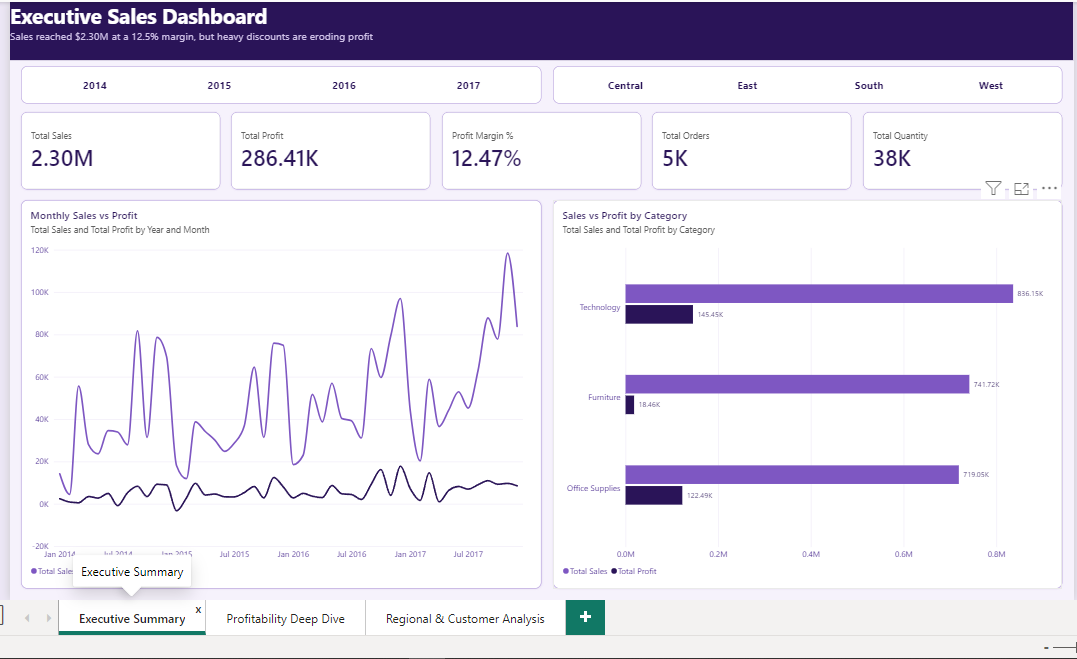

Layout of this report page (visuals, bound fields, positions):
{"tool":"powerbi","page":{"name":"Executive Summary","canvas":[1920,1080],"ordinal":0},"visuals":[{"type":"cardVisual","fields":{"Data":["Key Measures.Total Sales"]},"box":[20,198,360,140],"z":1000},{"type":"cardVisual","fields":{"Data":["Key Measures.Total Profit"]},"box":[400,198,360,140],"z":1001},{"type":"cardVisual","fields":{"Data":["Key Measures.Profit Margin %"]},"box":[780,198,360,140],"z":1002},{"type":"cardVisual","fields":{"Data":["Key Measures.Total Orders"]},"box":[1160,198,360,140],"z":1003},{"type":"cardVisual","fields":{"Data":["Key Measures.Total Quantity"]},"box":[1540,198,360,140],"z":1004},{"type":"lineChart","title":"Monthly Sales vs Profit","fields":{"Category":["Dim_Date.Date.Variation.Date Hierarchy.Year","Dim_Date.Date.Variation.Date Hierarchy.Month"],"Y":["Key Measures.Total Sales","Key Measures.Total Profit"]},"box":[20,358,940,702],"z":5000},{"type":"clusteredBarChart","title":"Sales vs Profit by Category","fields":{"Category":["Fact_Orders.Category"],"Y":["Key Measures.Total Sales","Key Measures.Total Profit"]},"box":[980,358,920,702],"z":6000},{"type":"slicer","fields":{"Values":["Dim_Date.Year"]},"box":[20,115,940,68],"z":7000},{"type":"slicer","fields":{"Values":["Fact_Orders.Region"]},"box":[980,115,920,68],"z":7001},{"type":"textbox","box":[0,0,1920,105],"z":9000}]}

Visuals, with their boxes on the page's 1920x1080 design canvas (x1, y1, x2, y2). These are canvas units, not pixel positions in the 1077x659 screenshot, which may show the page scaled, cropped or inside an application window:
cardVisual - Key Measures.Total Sales: bbox=[20, 198, 380, 338]
cardVisual - Key Measures.Total Profit: bbox=[400, 198, 760, 338]
cardVisual - Key Measures.Profit Margin %: bbox=[780, 198, 1140, 338]
cardVisual - Key Measures.Total Orders: bbox=[1160, 198, 1520, 338]
cardVisual - Key Measures.Total Quantity: bbox=[1540, 198, 1900, 338]
"Monthly Sales vs Profit" lineChart: bbox=[20, 358, 960, 1060]
"Sales vs Profit by Category" clusteredBarChart: bbox=[980, 358, 1900, 1060]
slicer - Dim_Date.Year: bbox=[20, 115, 960, 183]
slicer - Fact_Orders.Region: bbox=[980, 115, 1900, 183]
textbox: bbox=[0, 0, 1920, 105]
